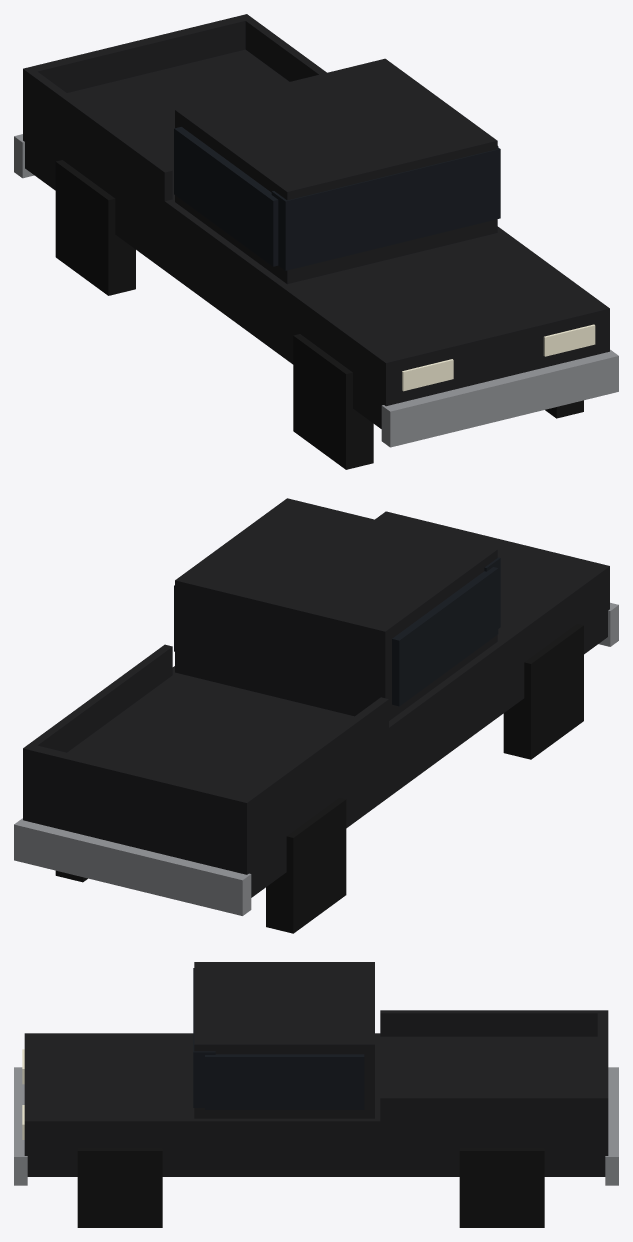
The model's file is pickup_black.dae.
The picture shows the model from 3 angles, top to bottom: view 1: azimuth 30°, elevation 25°; view 2: azimuth 150°, elevation 25°; view 3: azimuth 270°, elevation 25°; orthographic projection. The views are drawn at different scales.
Visible parts, largest first — view 1: marker; view 2: marker; view 3: marker.
Part boxes in pixels (left/top/right/bottom): marker: left=14, top=14, right=618, bottom=469; marker: left=14, top=498, right=618, bottom=933; marker: left=14, top=962, right=618, bottom=1227.
Bounding box in the file's own units: 2.08 × 5.7 × 1.85.
